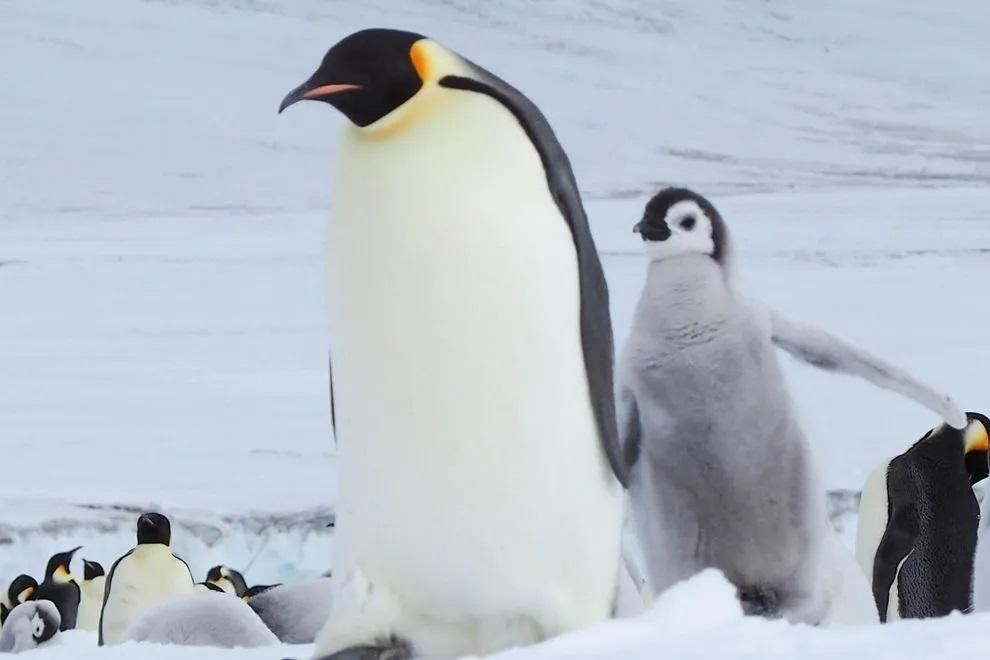emporer: (243, 13, 640, 656)
